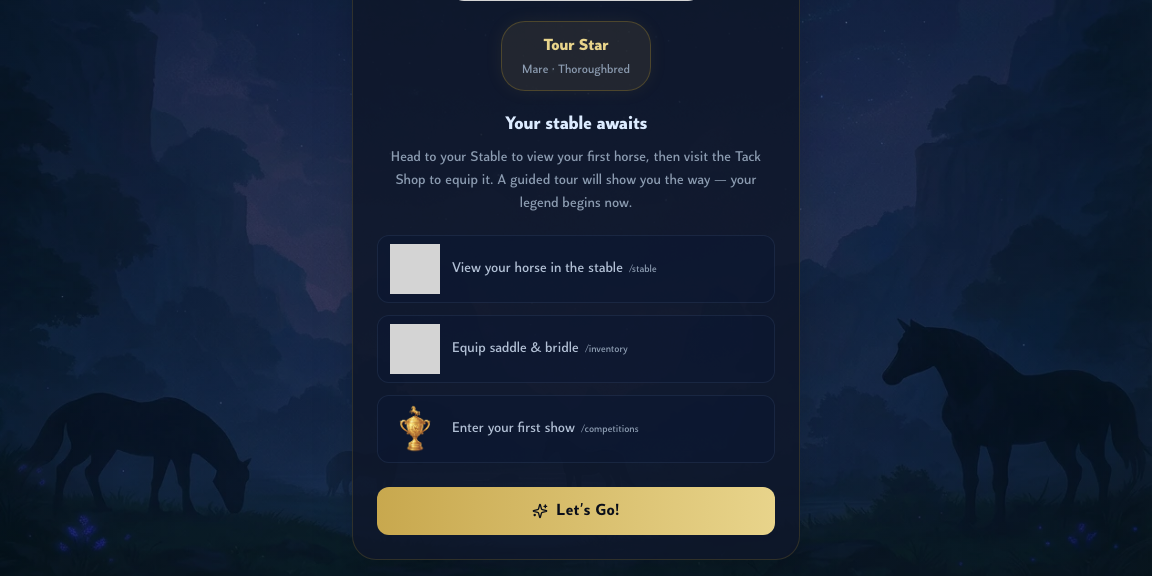
Test: OnboardingPage finish -> spotlight tour hand-off (Equoria-bvddn.31) › caches step 1 / completed false from the mutation result and shows the spotlight
(page scrolled)
Expected: the text "Step 1 of 10" is not shown
Click the button with test id "onboarding-next".
click(576, 511)  # box [377,487,775,535]
(page scrolled)
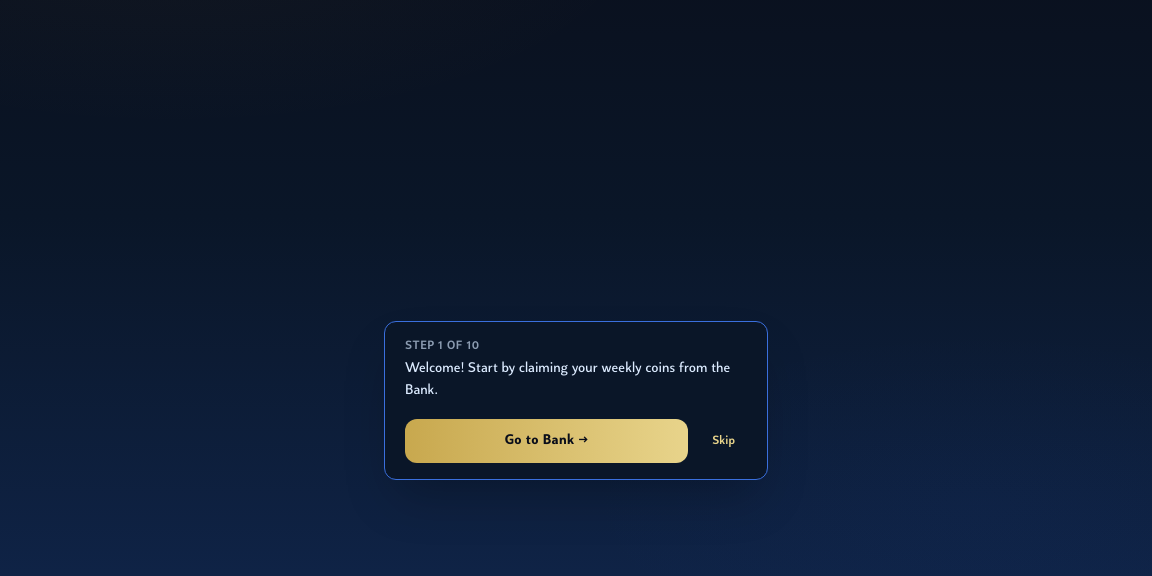
Expected: the text "Step 1 of 10" is shown, [405,340,479,352]
Expected: the text "Welcome! Start by claiming your weekly coins from the Bank." is shown, [405,358,747,403]
